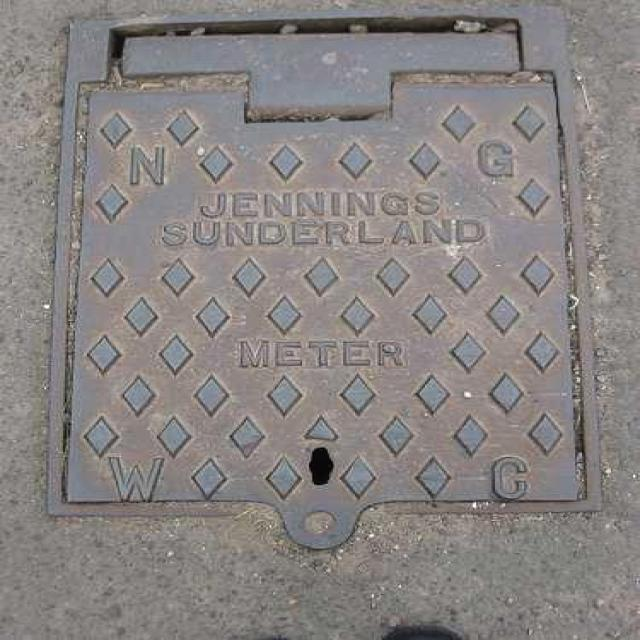manhole: (52, 7, 598, 549)
